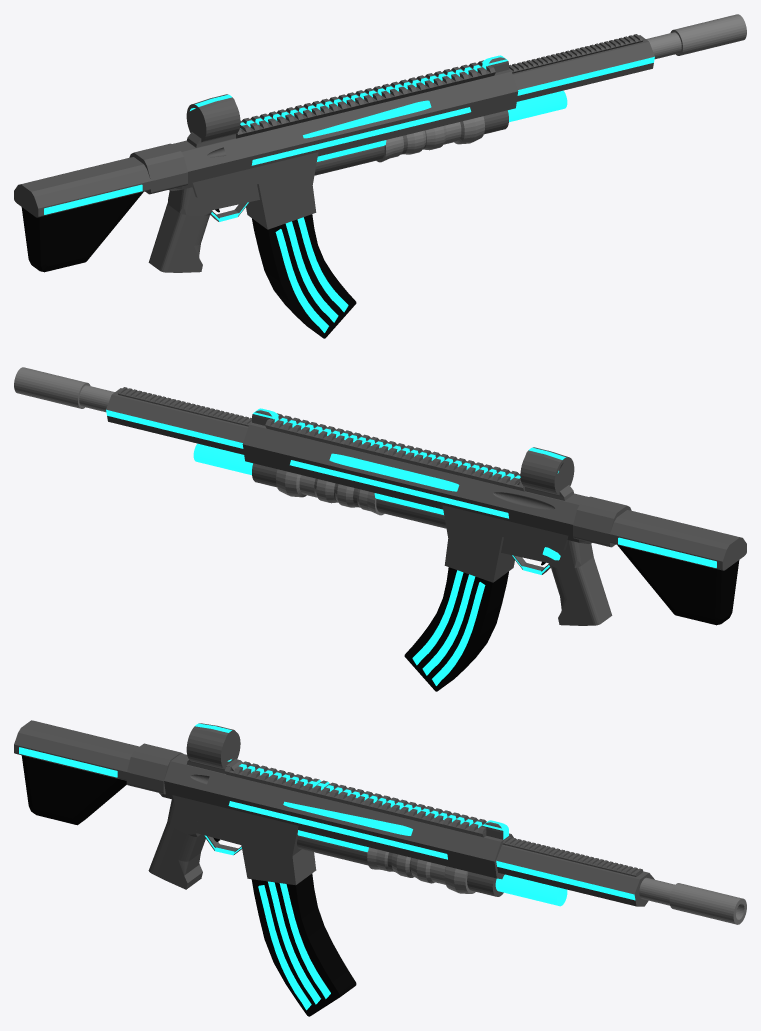
Rendered from multygun.fbx.
3 renders of one model, top to bottom at view 1: azimuth 30°, elevation 25°; view 2: azimuth 150°, elevation 25°; view 3: azimuth 330°, elevation 25°, orthographic.
Visible parts, largest first — view 1: Cylinder.005, Cube.005, Cube.002, Cube.004, Cube.006, Cube.001, Cube.003, Cylinder.002, Cylinder.009, Cylinder.006, Cylinder.004, Cylinder.001 (+7 smaller); view 2: Cylinder.005, Cube.005, Cube.002, Cube.004, Cube.006, Cube.001, Cube.003, Cylinder.002, Cylinder.009, Cylinder.006, Cylinder.004, Cylinder.001 (+7 smaller); view 3: Cylinder.005, Cube.001, Cube.005, Cube.004, Cube.003, Cube.002, Cylinder.002, Cube.006, Cylinder.009, Cylinder.006, Cylinder.004, Cylinder.001 (+7 smaller).
Part boxes in pixels (box(x1,y1,x2,y2)): Cylinder.005: box(169, 69, 518, 190); Cube.005: box(14, 143, 187, 217); Cube.002: box(21, 192, 143, 272); Cube.004: box(192, 152, 318, 229); Cube.006: box(148, 184, 259, 272); Cube.001: box(252, 214, 356, 338); Cube.003: box(236, 60, 495, 138); Cylinder.002: box(512, 35, 654, 101); Cylinder.009: box(646, 14, 746, 59); Cylinder.006: box(376, 116, 484, 162); Cylinder.004: box(186, 94, 240, 142); Cylinder.001: box(314, 110, 508, 175); Cylinder.005: box(242, 422, 591, 543); Cube.005: box(573, 496, 746, 570); Cube.002: box(617, 545, 739, 625); Cube.004: box(442, 505, 568, 582); Cube.006: box(501, 537, 612, 625); Cube.001: box(404, 567, 508, 691); Cube.003: box(265, 413, 524, 491); Cylinder.002: box(106, 388, 248, 454); Cylinder.009: box(14, 367, 114, 412); Cylinder.006: box(276, 469, 384, 515); Cylinder.004: box(520, 447, 574, 495); Cylinder.001: box(252, 463, 446, 528); Cylinder.005: box(159, 753, 513, 879); Cube.001: box(251, 873, 356, 1016); Cube.005: box(14, 720, 183, 794); Cube.004: box(172, 795, 316, 885); Cube.003: box(224, 761, 486, 837); Cube.002: box(21, 755, 126, 825); Cylinder.002: box(496, 844, 654, 906); Cube.006: box(148, 799, 241, 889); Cylinder.009: box(639, 877, 746, 924); Cylinder.006: box(367, 847, 475, 893); Cylinder.004: box(186, 723, 240, 769); Cylinder.001: box(297, 835, 503, 896).
Size of the model in its own units: 75.34 by 26.04 by 4.75.
